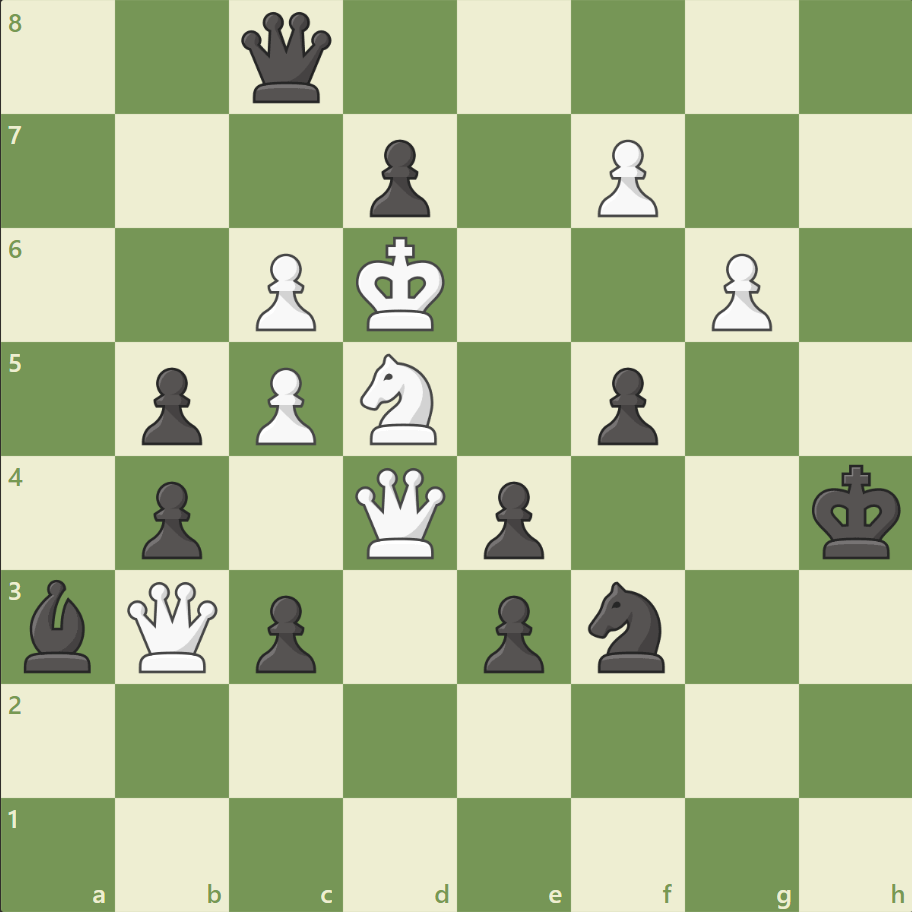K: (351, 231, 451, 339)
N: (351, 348, 449, 450)
P: (247, 246, 322, 337), (701, 246, 776, 337), (247, 359, 322, 450), (588, 132, 662, 223)
Q: (124, 576, 223, 676), (351, 463, 450, 562)
b: (17, 574, 101, 676)
k: (806, 458, 906, 566)
n: (579, 575, 676, 677)
p: (133, 359, 208, 450), (133, 473, 208, 564), (474, 473, 549, 564), (247, 586, 322, 677), (474, 586, 549, 677), (361, 132, 435, 223), (588, 359, 662, 450)
q: (237, 9, 336, 108)
